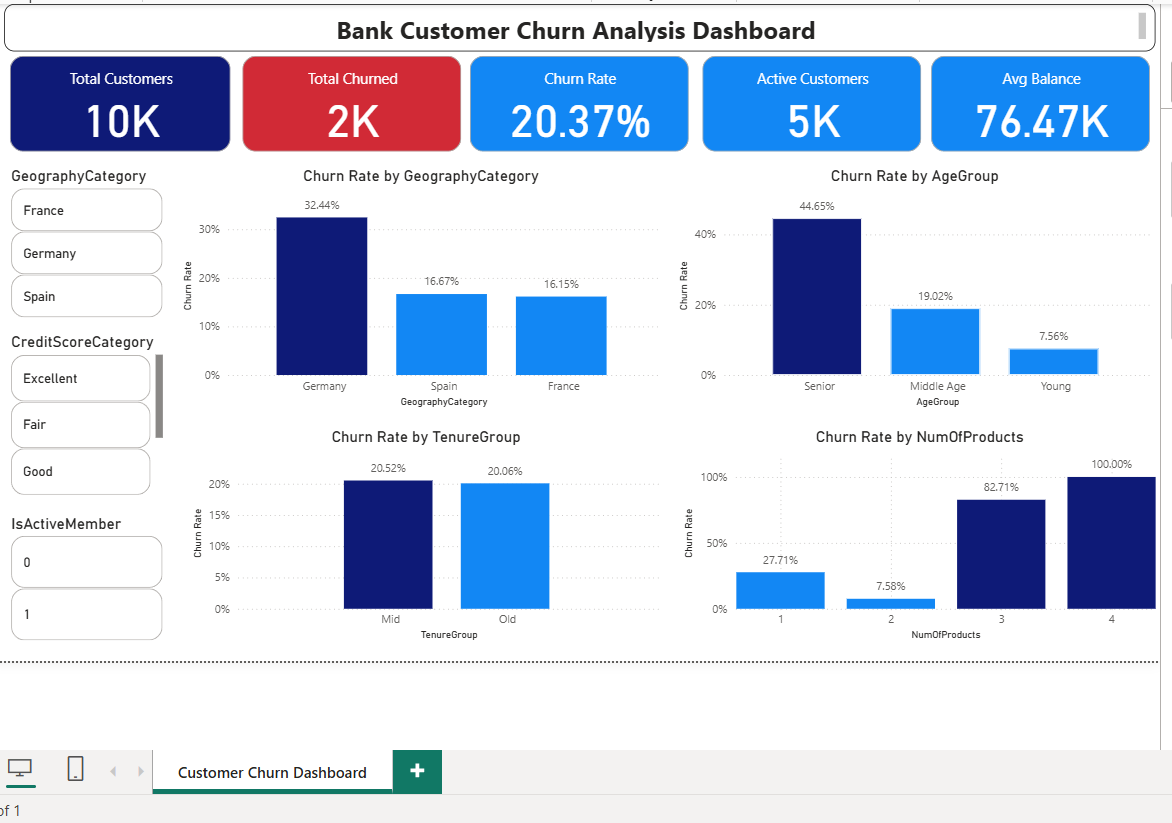

The page's visual inventory and layout, read from the dashboard file:
{"tool":"powerbi","page":{"name":"Customer Churn Dashboard","canvas":[1280,720],"ordinal":0},"visuals":[{"type":"cardVisual","fields":{"Data":["BankChurn_EDA.Total Customers"]},"box":[13.7,52.1,252.2,115.1],"z":0},{"type":"clusteredColumnChart","fields":{"Category":["BankChurn_EDA.GeographyCategory"],"Y":["BankChurn_EDA.Churn Rate"]},"box":[202.9,178.2,533.2,268.7],"z":1000},{"type":"clusteredColumnChart","fields":{"Category":["BankChurn_EDA.AgeGroup"],"Y":["BankChurn_EDA.Churn Rate"]},"box":[747.1,178.2,527.7,268.7],"z":2000},{"type":"clusteredColumnChart","fields":{"Category":["BankChurn_EDA.TenureGroup"],"Y":["BankChurn_EDA.Churn Rate"]},"box":[213.8,464.7,522.3,238.5],"z":3000},{"type":"columnChart","fields":{"Category":["BankChurn_EDA.NumOfProducts"],"Y":["BankChurn_EDA.Churn Rate"]},"box":[752.5,464.7,527.7,238.5],"z":4000},{"type":"advancedSlicerVisual","fields":{"Values":["BankChurn_EDA.GeographyCategory"]},"box":[15.1,178.2,176.8,171.3],"z":5000},{"type":"advancedSlicerVisual","fields":{"Values":["BankChurn_EDA.CreditScoreCategory"]},"box":[15.1,360.5,176.8,185.1],"z":6000},{"type":"textbox","box":[12.3,0,1262.5,52.1],"z":7000},{"type":"cardVisual","fields":{"Data":["BankChurn_EDA.Total Churned"]},"box":[268.7,52.1,250.8,115.1],"z":8000},{"type":"cardVisual","fields":{"Data":["BankChurn_EDA.Churn Rate"]},"box":[518.1,52.1,250.8,115.1],"z":9000},{"type":"cardVisual","fields":{"Data":["BankChurn_EDA.Active Customers"]},"box":[773.1,52.1,250.8,115.1],"z":10000},{"type":"cardVisual","fields":{"Data":["BankChurn_EDA.Avg Balance"]},"box":[1023.9,52.1,250.8,115.1],"z":12000},{"type":"advancedSlicerVisual","fields":{"Values":["BankChurn_EDA.IsActiveMember"]},"box":[15.1,559.3,176.8,143.9],"z":13000}]}

Visuals, with their boxes on the page's 1280x720 design canvas (x1, y1, x2, y2). These are canvas units, not pixel positions in the 1172x823 screenshot, which may show the page scaled, cropped or inside an application window:
cardVisual - BankChurn_EDA.Total Customers: <bbox>14, 52, 266, 167</bbox>
clusteredColumnChart - BankChurn_EDA.GeographyCategory x BankChurn_EDA.Churn Rate: <bbox>203, 178, 736, 447</bbox>
clusteredColumnChart - BankChurn_EDA.AgeGroup x BankChurn_EDA.Churn Rate: <bbox>747, 178, 1275, 447</bbox>
clusteredColumnChart - BankChurn_EDA.TenureGroup x BankChurn_EDA.Churn Rate: <bbox>214, 465, 736, 703</bbox>
columnChart - BankChurn_EDA.NumOfProducts x BankChurn_EDA.Churn Rate: <bbox>752, 465, 1280, 703</bbox>
advancedSlicerVisual - BankChurn_EDA.GeographyCategory: <bbox>15, 178, 192, 350</bbox>
advancedSlicerVisual - BankChurn_EDA.CreditScoreCategory: <bbox>15, 360, 192, 546</bbox>
textbox: <bbox>12, 0, 1275, 52</bbox>
cardVisual - BankChurn_EDA.Total Churned: <bbox>269, 52, 520, 167</bbox>
cardVisual - BankChurn_EDA.Churn Rate: <bbox>518, 52, 769, 167</bbox>
cardVisual - BankChurn_EDA.Active Customers: <bbox>773, 52, 1024, 167</bbox>
cardVisual - BankChurn_EDA.Avg Balance: <bbox>1024, 52, 1275, 167</bbox>
advancedSlicerVisual - BankChurn_EDA.IsActiveMember: <bbox>15, 559, 192, 703</bbox>
